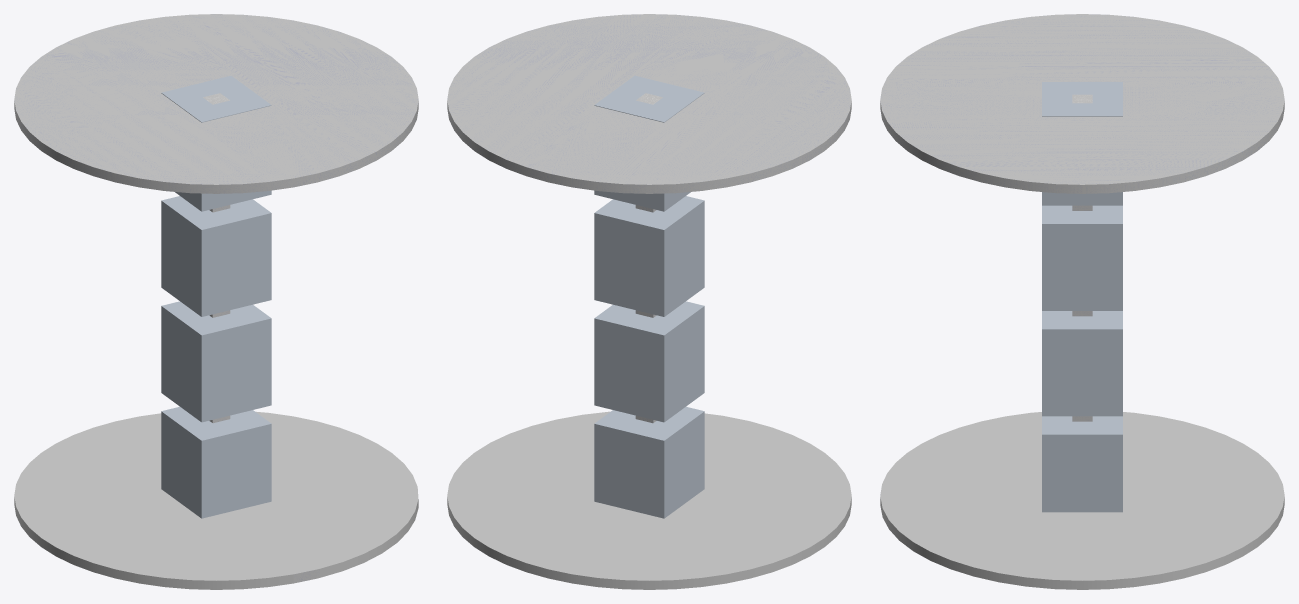
The picture shows the model from 3 angles, left to right: view 1: azimuth 30°, elevation 25°; view 2: azimuth 150°, elevation 25°; view 3: azimuth 270°, elevation 25°; orthographic projection.
Visible parts, largest first — view 1: SketchUp_012, SketchUp_011, SketchUp_005, SketchUp_006, SketchUp_001, SketchUp_007, SketchUp_002; view 2: SketchUp_012, SketchUp_011, SketchUp_005, SketchUp_006, SketchUp_001, SketchUp_007, SketchUp_002; view 3: SketchUp_012, SketchUp_011, SketchUp_006, SketchUp_005, SketchUp_001, SketchUp_007, SketchUp_002.
Part boxes in pixels (box(x1,y1,x2,y2)): SketchUp_012: box(14, 14, 418, 193); SketchUp_011: box(14, 411, 418, 589); SketchUp_005: box(161, 196, 271, 316); SketchUp_006: box(161, 301, 271, 422); SketchUp_001: box(161, 406, 271, 518); SketchUp_007: box(161, 75, 271, 122); SketchUp_002: box(175, 190, 271, 211); SketchUp_012: box(447, 14, 851, 193); SketchUp_011: box(447, 411, 851, 589); SketchUp_005: box(594, 196, 704, 316); SketchUp_006: box(594, 301, 704, 422); SketchUp_001: box(594, 406, 704, 518); SketchUp_007: box(594, 75, 704, 122); SketchUp_002: box(594, 190, 690, 211); SketchUp_012: box(880, 14, 1284, 193); SketchUp_011: box(880, 412, 1284, 589); SketchUp_006: box(1042, 311, 1122, 416); SketchUp_005: box(1042, 205, 1122, 310); SketchUp_001: box(1042, 416, 1122, 512); SketchUp_007: box(1042, 82, 1122, 116); SketchUp_002: box(1042, 192, 1122, 205).
Bounding box in the file's own units: 0.508 × 0.508 × 0.5622.
